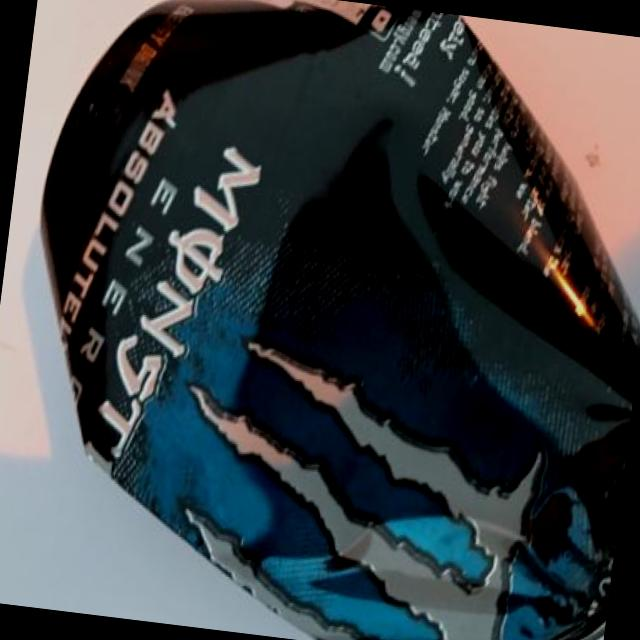kim_loai: (42, 0, 640, 640)
